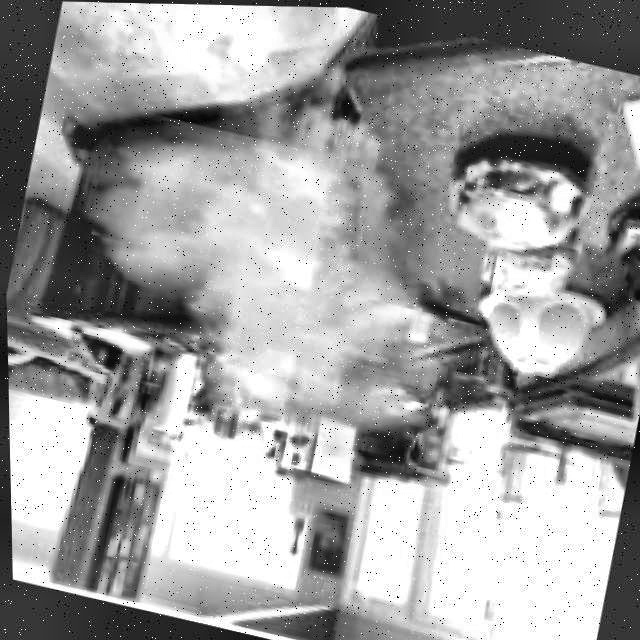Smoke: (34, 1, 530, 470)
